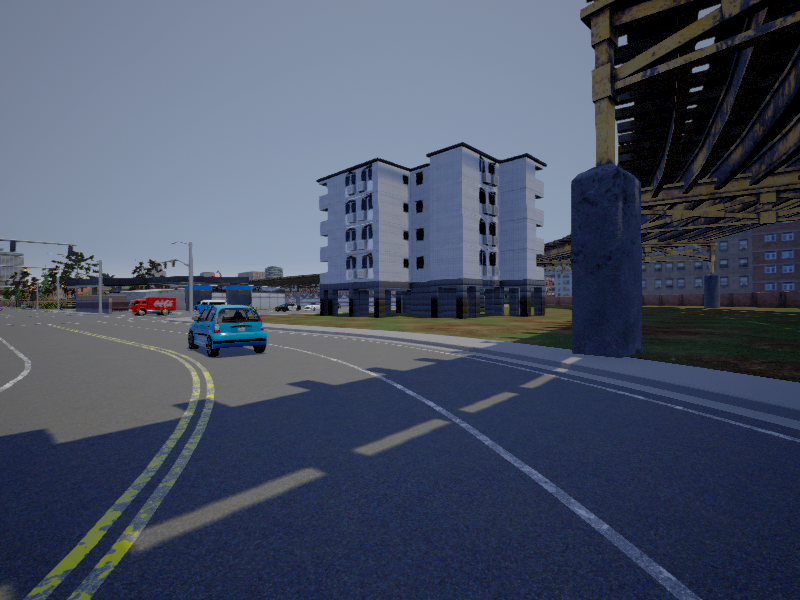Benign: (186, 308, 268, 355), (131, 296, 177, 318), (196, 299, 230, 315), (276, 300, 303, 313)
